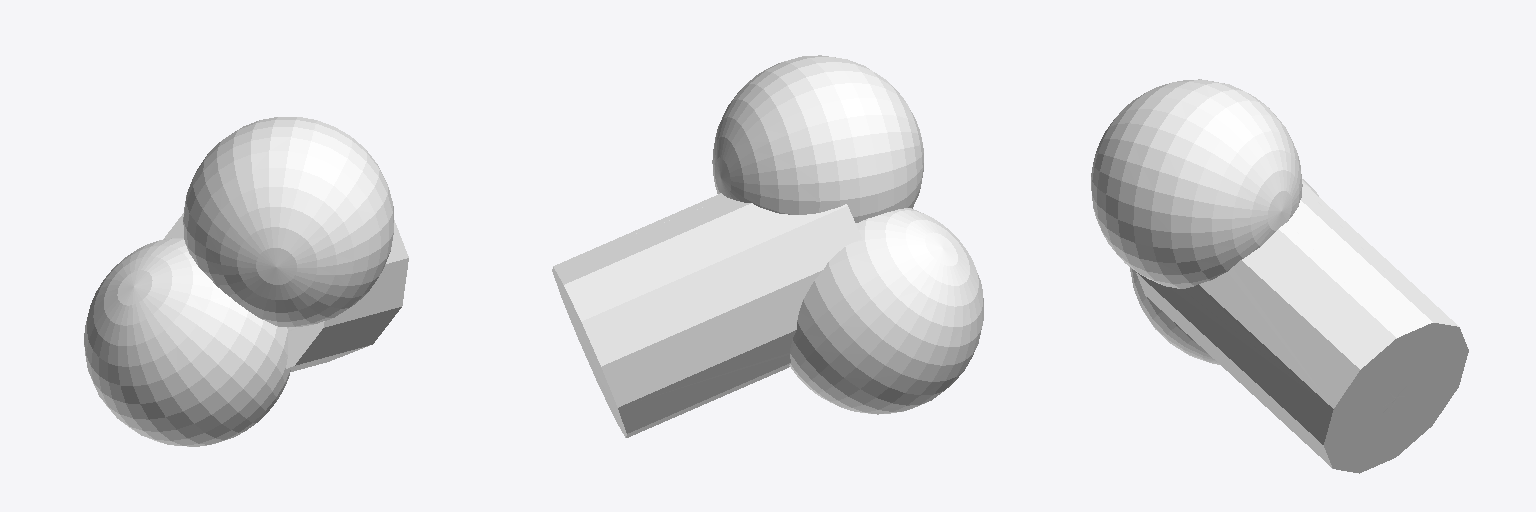
File: galbi_bone.obj
The picture shows the model from 3 angles: view 1: azimuth 30°, elevation 25°; view 2: azimuth 150°, elevation 25°; view 3: azimuth 270°, elevation 25°; orthographic projection.
Parts seen in each view (by area): view 1: Sphere003; view 2: Sphere003; view 3: Sphere003.
Boxes of the visible parts, <box> form: Sphere003: <box>84,117,408,446</box>; Sphere003: <box>552,55,983,437</box>; Sphere003: <box>1091,79,1468,473</box>.
Size of the model in its own units: 1.2 by 1.03 by 1.09.